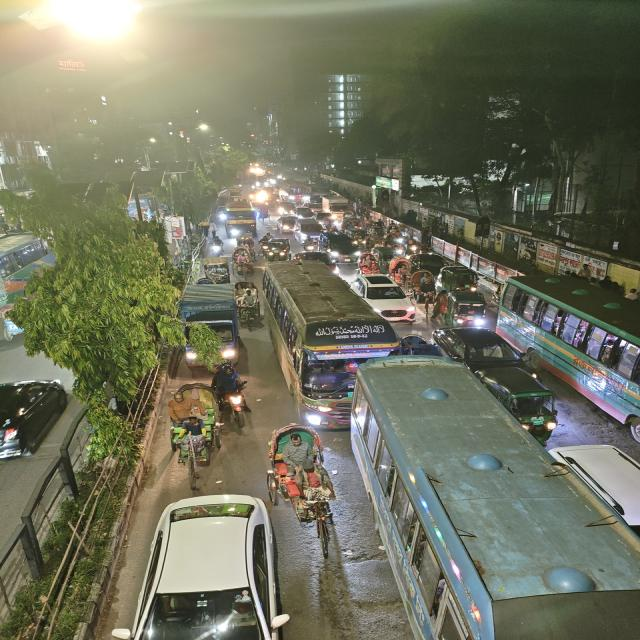bus: (352, 359, 640, 640), (496, 272, 640, 434), (262, 262, 396, 426), (0, 233, 49, 328), (276, 184, 310, 206)
car: (140, 492, 285, 640), (548, 443, 640, 583), (0, 372, 71, 474), (474, 360, 562, 436), (356, 274, 419, 322), (325, 232, 362, 264), (274, 217, 298, 236)
cng: (477, 360, 563, 438), (439, 288, 490, 328), (435, 264, 480, 294), (266, 237, 292, 261)
motorcycle: (212, 360, 255, 430), (208, 234, 226, 259)
rickshaw: (263, 422, 339, 538), (175, 281, 242, 372), (165, 380, 224, 470), (233, 279, 264, 330), (200, 258, 232, 284), (412, 268, 437, 297), (232, 247, 254, 276), (356, 252, 382, 276)
truck: (222, 202, 257, 229), (320, 194, 350, 216)
